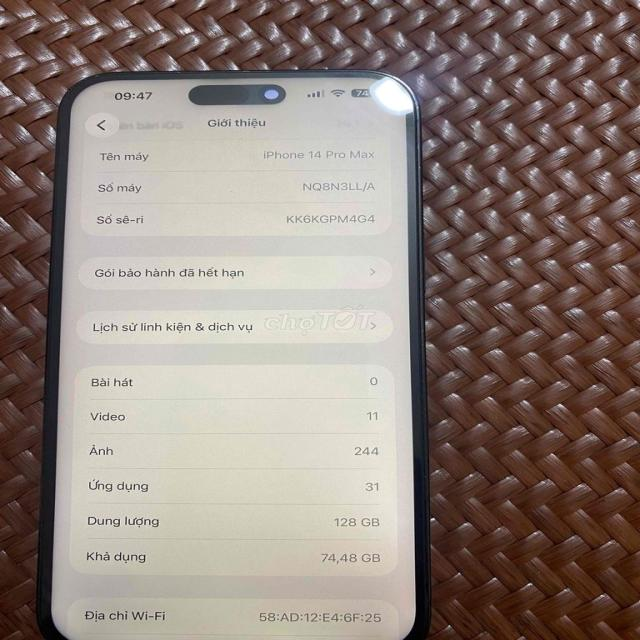gen_14: (25, 57, 457, 638)
